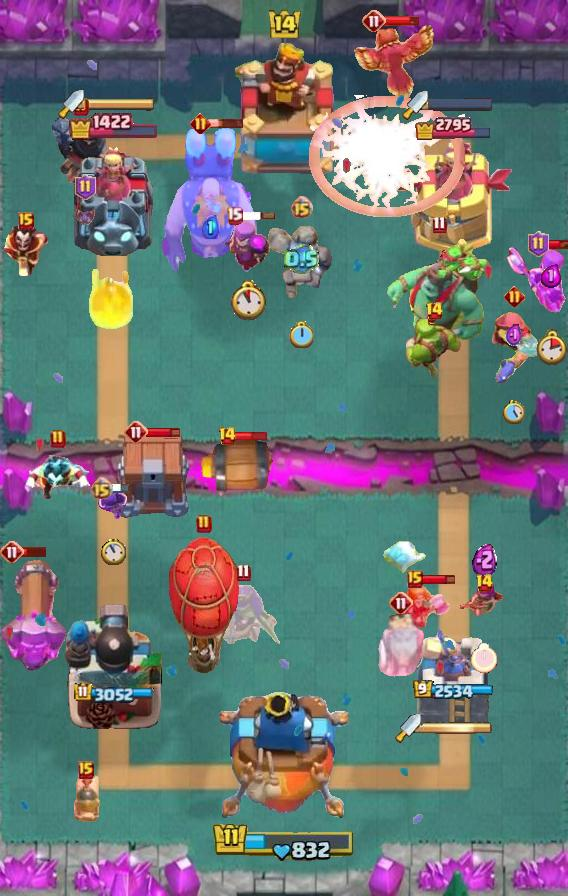bar: (395, 142, 514, 256), (70, 142, 158, 256), (414, 623, 492, 731)
barbarian-barrel: (73, 203, 97, 229)
barbarian-evolution: (307, 95, 465, 217)
barbarian-hut: (201, 582, 286, 652)
bat: (379, 538, 427, 576)
bomb: (114, 433, 192, 519)
cannon: (457, 581, 511, 625)
cannon-cart: (168, 537, 240, 677)
clock: (212, 821, 356, 863)
electro-spirit: (284, 245, 320, 276), (472, 542, 497, 578), (541, 264, 561, 288), (202, 215, 220, 239), (506, 323, 522, 349)
elixir: (228, 279, 268, 320), (537, 329, 567, 365), (471, 643, 497, 673), (101, 538, 126, 565), (289, 321, 313, 348), (503, 400, 525, 424)
emote: (12, 545, 49, 558), (146, 426, 181, 439), (421, 573, 456, 586), (207, 117, 244, 129), (384, 15, 420, 27), (234, 430, 270, 442), (240, 211, 276, 221), (546, 238, 568, 250), (111, 483, 130, 494)
executioner: (70, 770, 102, 828)
fireball: (489, 310, 539, 386)
flying-machine: (406, 319, 462, 377)
furnace: (0, 556, 68, 676)
goblin: (99, 488, 129, 524)
golden-knight: (349, 19, 435, 101)
hog-rider: (404, 584, 452, 630)
inferno-dragon: (51, 111, 111, 187)
king-tower: (219, 692, 349, 826), (228, 41, 340, 181)
king-tower-bar: (84, 97, 156, 111), (421, 721, 493, 735), (428, 97, 492, 110)
lava-hound: (386, 237, 492, 355)
little-prince: (159, 127, 263, 275)
lumberjack: (21, 447, 95, 505), (0, 222, 52, 276)
mortar-evolution: (374, 611, 428, 677)
rascal-boy: (506, 244, 568, 316)
rascal-girl: (220, 218, 276, 280)
selected: (68, 112, 160, 140), (414, 115, 494, 140), (414, 679, 495, 700), (74, 681, 154, 702)
text: (362, 9, 386, 33), (124, 420, 148, 444), (0, 540, 24, 564), (389, 591, 413, 615), (290, 196, 313, 220), (90, 476, 113, 500), (75, 174, 96, 200), (527, 231, 548, 257), (190, 113, 211, 135), (504, 285, 525, 307), (425, 301, 444, 321), (218, 426, 237, 446), (475, 573, 494, 593), (225, 206, 243, 225), (73, 97, 89, 117), (50, 429, 66, 449), (196, 514, 212, 534), (18, 212, 34, 230), (407, 570, 423, 588), (78, 761, 94, 779), (236, 563, 251, 581), (433, 215, 447, 233)
the-log: (199, 438, 279, 498)
tower-bar: (64, 601, 164, 731)
valkyrie: (85, 263, 141, 333)
valkyrie-evolution: (264, 223, 338, 305)
